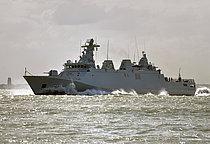MIL_Ship: (22, 38, 200, 97)
